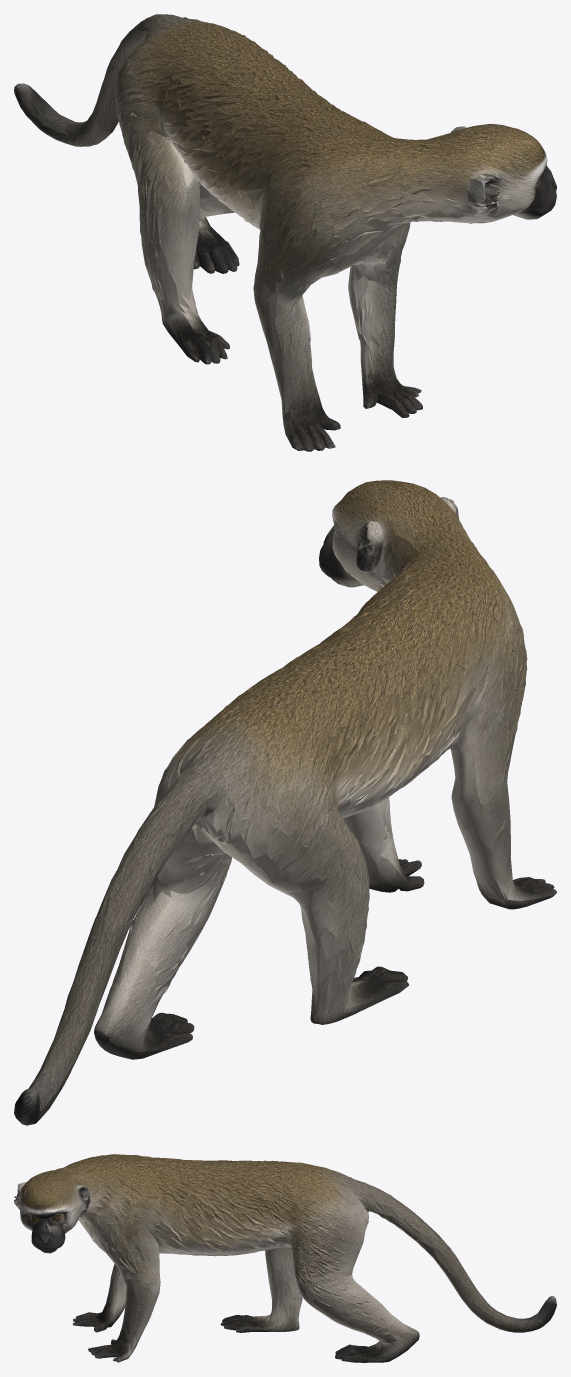
Rendered from vervet-monkey.glb.
3 renders of one model, top to bottom at view 1: azimuth 30°, elevation 25°; view 2: azimuth 150°, elevation 25°; view 3: azimuth 270°, elevation 25°, orthographic. The views are drawn at different scales.
Bounding box in the file's own units: 0.5992 × 0.7384 × 1.9.
Materials: 1 (1 with a texture image).
